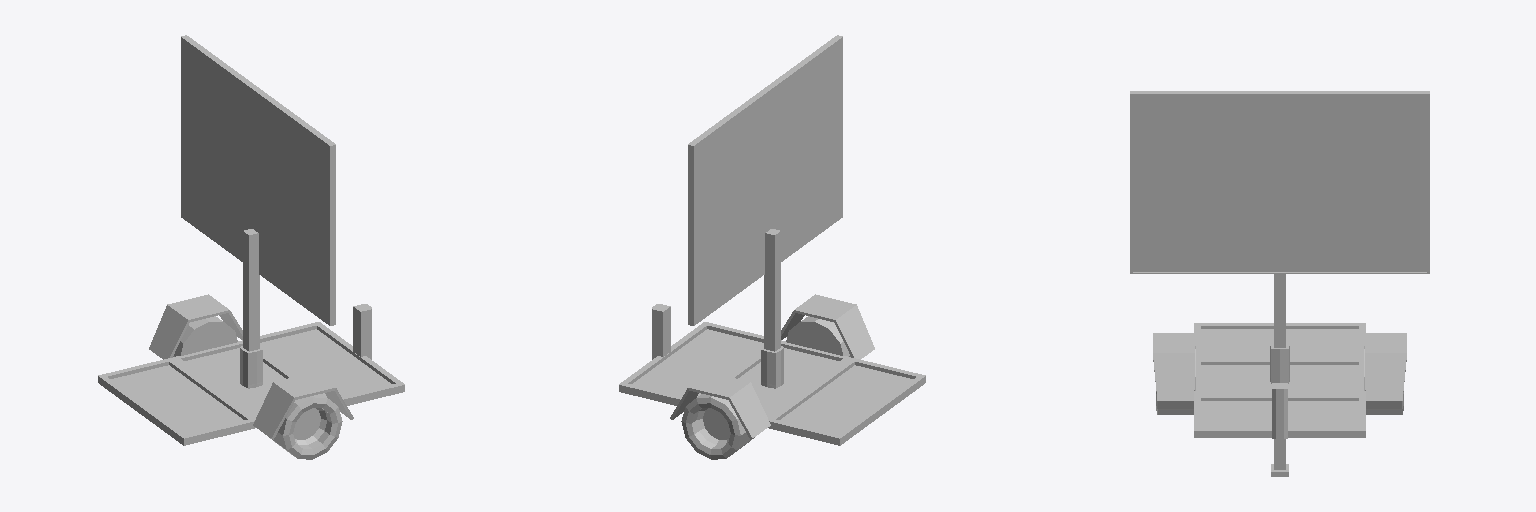
File: zombieAhead_Low.obj
3 renders of one model, left to right at view 1: azimuth 30°, elevation 25°; view 2: azimuth 150°, elevation 25°; view 3: azimuth 270°, elevation 25°, orthographic.
Parts seen in each view (by area): view 1: Low; view 2: Low; view 3: Low.
Boxes of the visible parts, <box> form: Low: <box>98,35,404,459</box>; Low: <box>619,35,925,459</box>; Low: <box>1130,91,1429,476</box>.
Size of the model in its own units: 5.54 by 7.57 by 6.23.